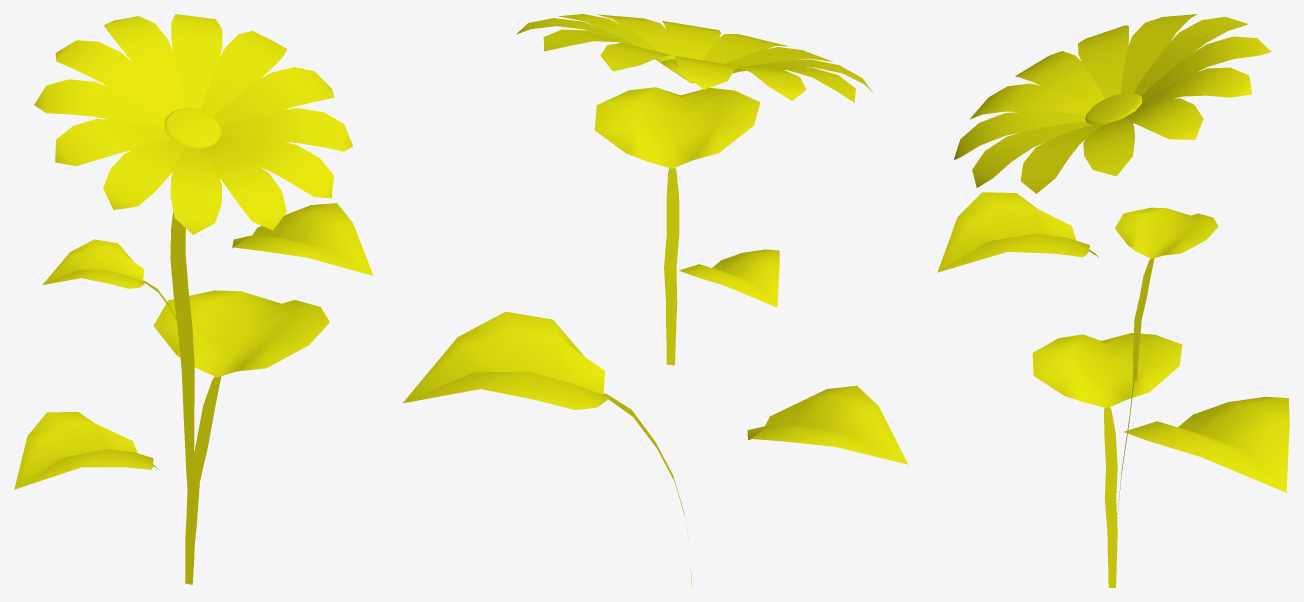
File: Flower1.glb
The picture shows the model from 3 angles, left to right: view 1: azimuth 30°, elevation 25°; view 2: azimuth 150°, elevation 25°; view 3: azimuth 270°, elevation 25°; orthographic projection. The views are drawn at different scales.
Parts seen in each view (by area): view 1: polySurface1213; view 2: polySurface1213; view 3: polySurface1213.
Boxes of the visible parts, <box> form: polySurface1213: <box>14,14,373,584</box>; polySurface1213: <box>403,14,908,585</box>; polySurface1213: <box>937,14,1289,587</box>.
Size of the model in its own units: 0.4083 by 0.5571 by 0.3298.
Materials: 1 (1 with a texture image).
